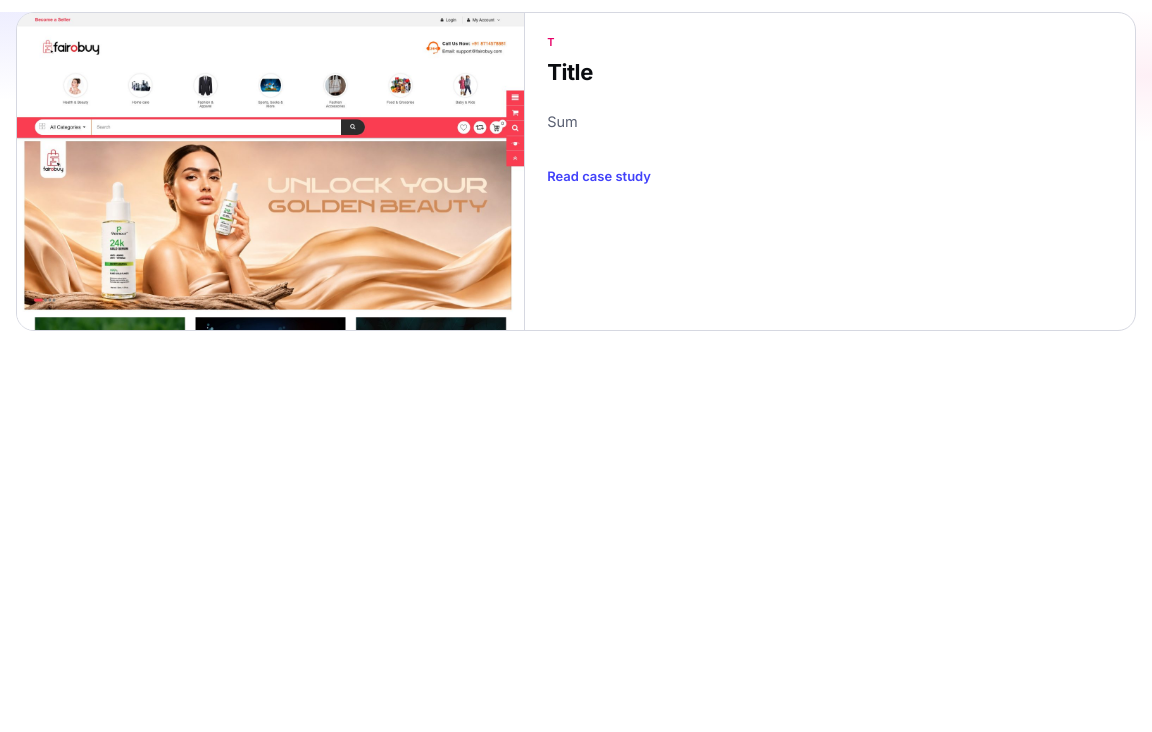
CaseStudyCard › expands and collapses, omitting empty blocks
Check: the text "Ctx" is not shown
Click the button "Read case study" at (599, 176), box 547,168 -> 651,184
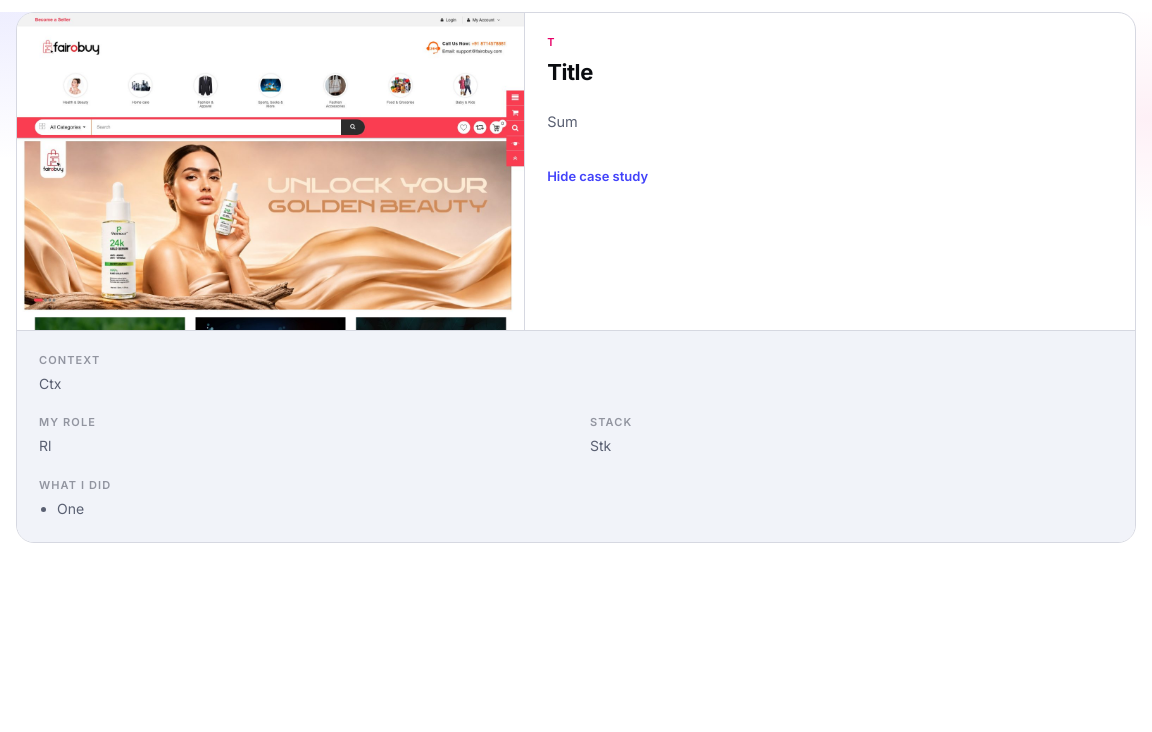
Check: the button "Hide case study" is expanded
Check: the text "Ctx" is shown, box 39,375 -> 62,392
Click the button "Hide case study" at (598, 176), box 547,168 -> 648,184
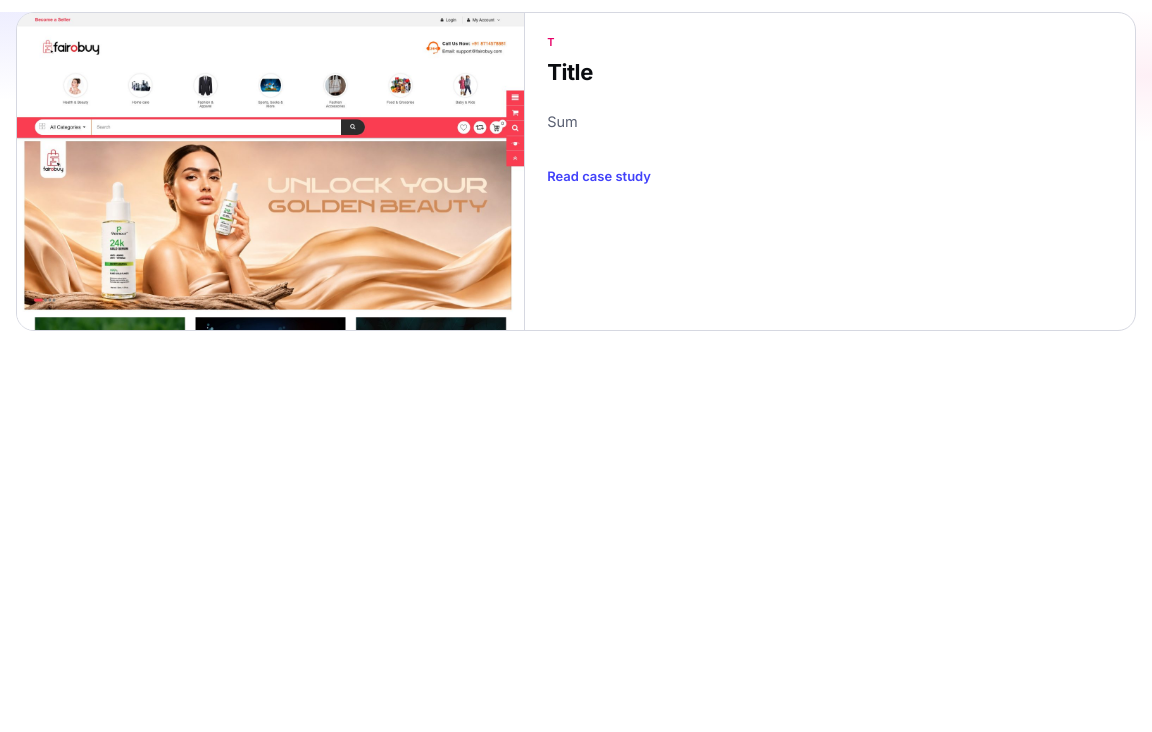
Check: the text "Ctx" is gone
